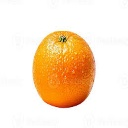orange: (30, 28, 98, 110)
